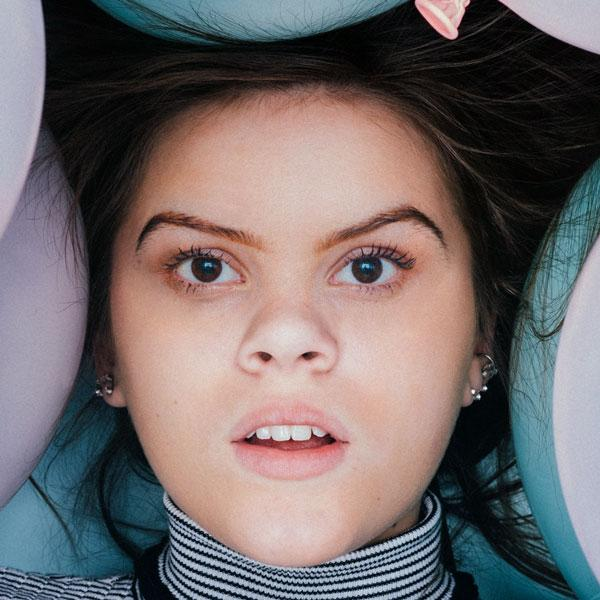Eyes: (154, 232, 259, 306), (314, 233, 422, 304)
